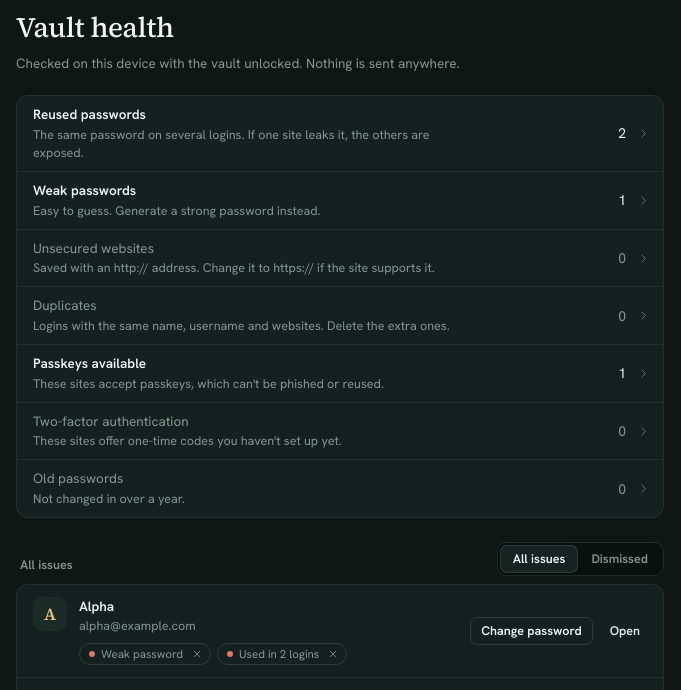
Test: HealthView › filters by a card and shows dismissed checks under their filter
Click the button that starts with "Passkeys available" at (340,373), box [17, 345, 663, 402]
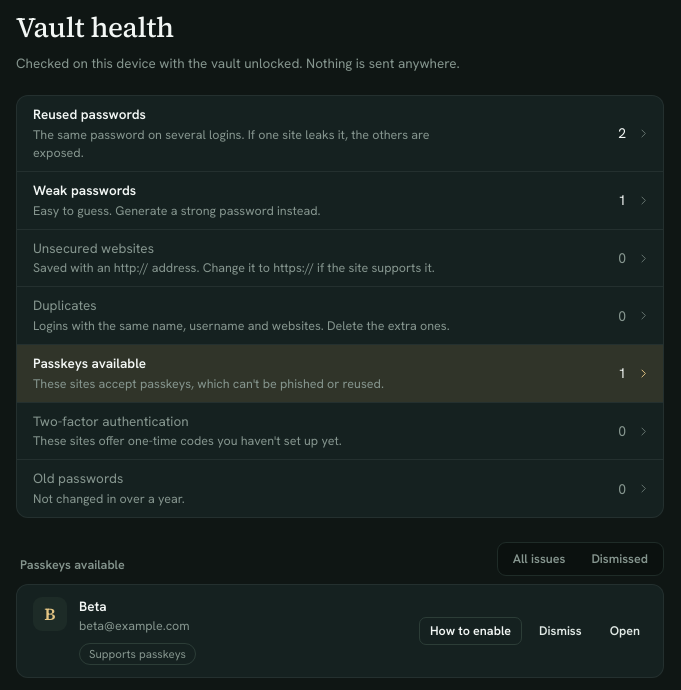
Expected: the text "Beta" is shown, [79, 597, 107, 615]
Result: the text "Alpha" is gone
Click the button "Dismissed" at (620,559), box [578, 545, 661, 573]
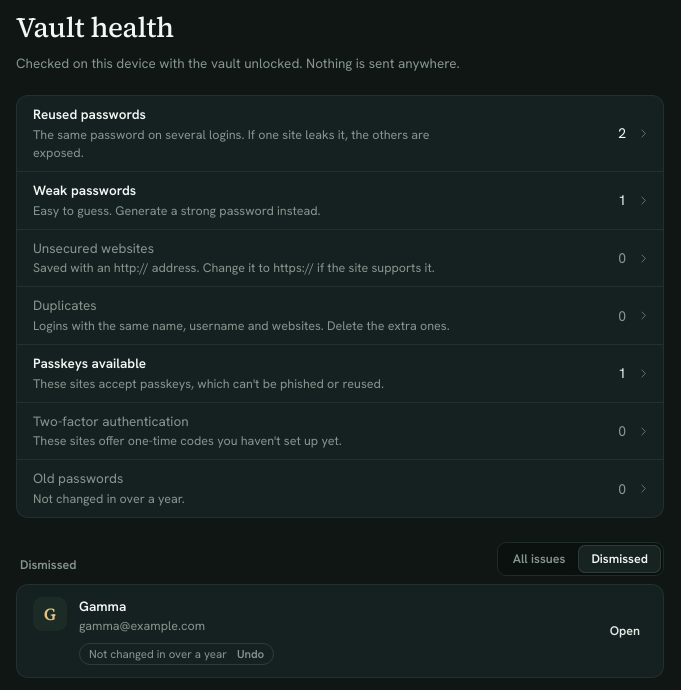
Result: the text "Gamma" is shown at [79, 597, 126, 615]
